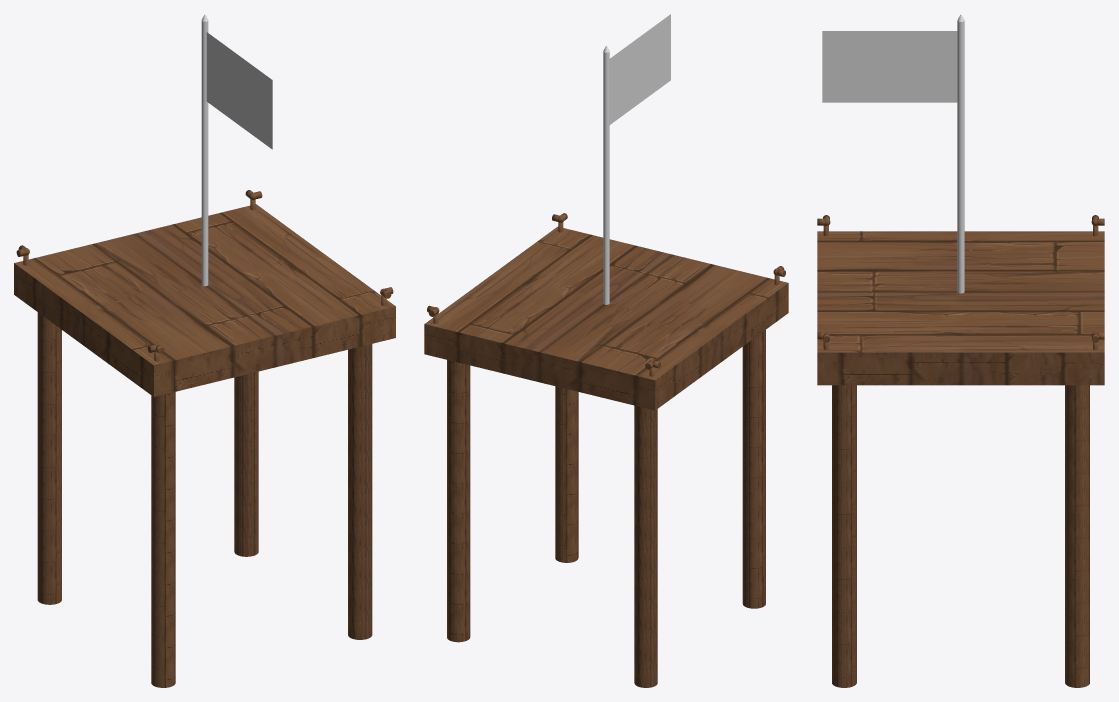
File: Checkpoint16.fbx
3 views of the same model, side by side, from view 1: azimuth 30°, elevation 25°; view 2: azimuth 150°, elevation 25°; view 3: azimuth 270°, elevation 25° (orthographic). The views are drawn at different scales.
Parts seen in each view (by area): view 1: Ground.002, pillar.000, Cube, Cone, corner.004; view 2: Ground.002, pillar.000, Cube, Cone, corner.004; view 3: Ground.002, pillar.000, Cube, Cone, corner.004.
Part boxes in pixels (x1=…): Ground.002: x1=14, y1=204, x2=395, y2=396; pillar.000: x1=37, y1=312, x2=372, y2=687; Cube: x1=206, y1=32, x2=272, y2=149; Cone: x1=201, y1=14, x2=208, y2=286; corner.004: x1=16, y1=190, x2=393, y2=361; Ground.002: x1=424, y1=226, x2=788, y2=410; pillar.000: x1=447, y1=330, x2=765, y2=687; Cube: x1=609, y1=14, x2=670, y2=124; Cone: x1=603, y1=45, x2=609, y2=304; corner.004: x1=427, y1=213, x2=785, y2=376; Ground.002: x1=817, y1=231, x2=1104, y2=385; pillar.000: x1=832, y1=385, x2=1089, y2=687; Cube: x1=822, y1=31, x2=957, y2=102; Cone: x1=957, y1=14, x2=964, y2=293; corner.004: x1=817, y1=215, x2=1104, y2=349.
Bounding box in the file's own units: 1600 × 3810 × 1600.
